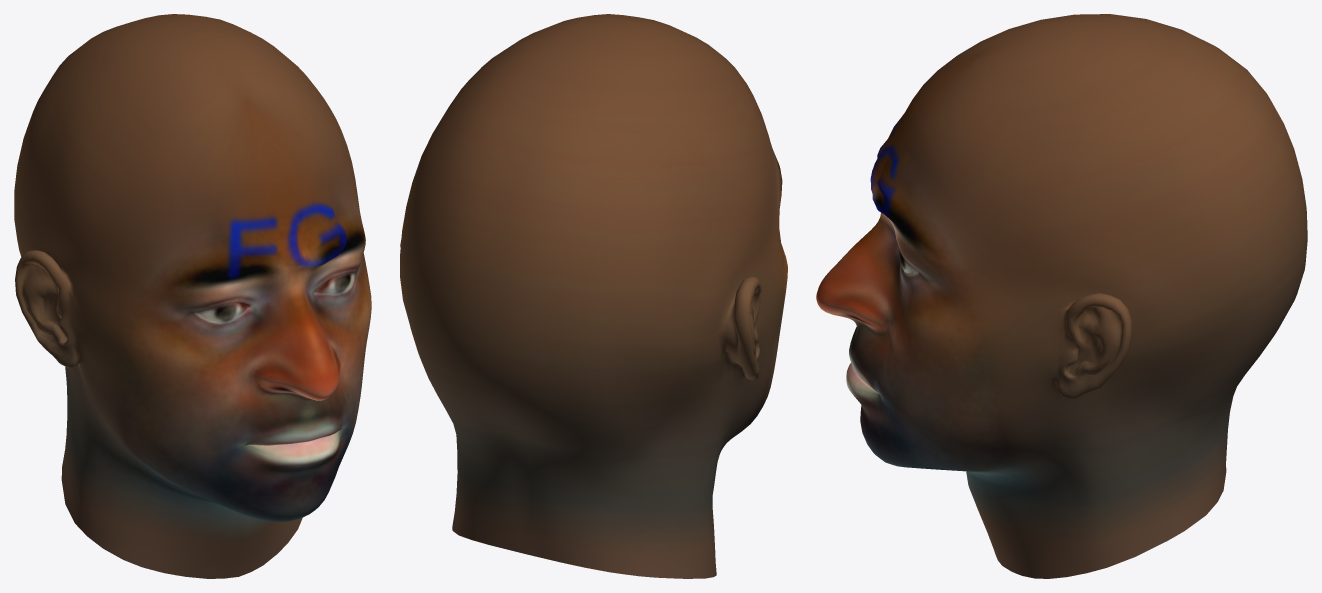
The model's file is avg_anyrace_male_10.obj.
3 renders of one model, left to right at view 1: azimuth 30°, elevation 25°; view 2: azimuth 150°, elevation 25°; view 3: azimuth 270°, elevation 25°, orthographic. The views are drawn at different scales.
Parts seen in each view (by area): view 1: HeadHires; view 2: HeadHires; view 3: HeadHires.
Part boxes in pixels (x1,y1,x2,y2): HeadHires: (14, 14, 371, 578); HeadHires: (400, 14, 787, 578); HeadHires: (816, 14, 1307, 578).
Bounding box in the file's own units: 188 × 283 × 240.
1 material, 1 textured.
